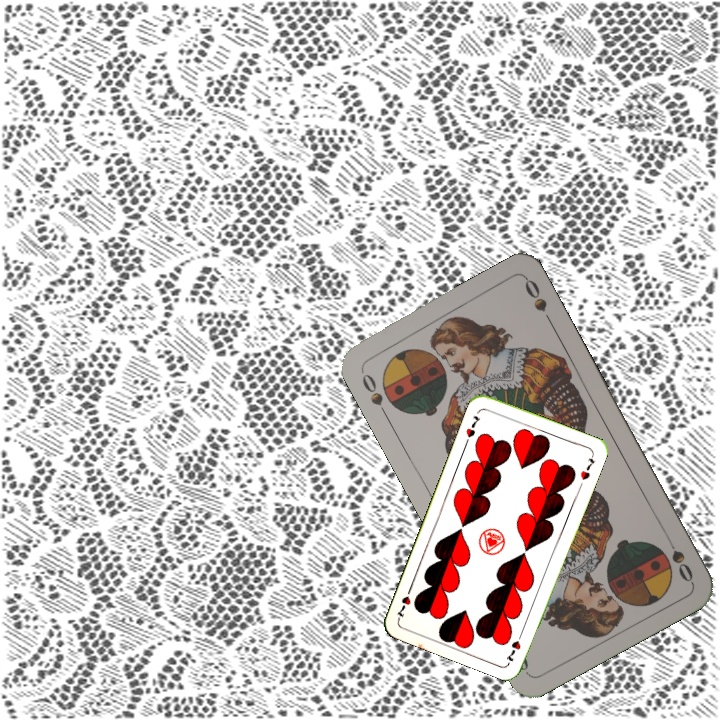H7: (502, 626, 526, 664), (462, 412, 483, 440)
SO: (661, 530, 696, 585), (356, 366, 391, 420)
